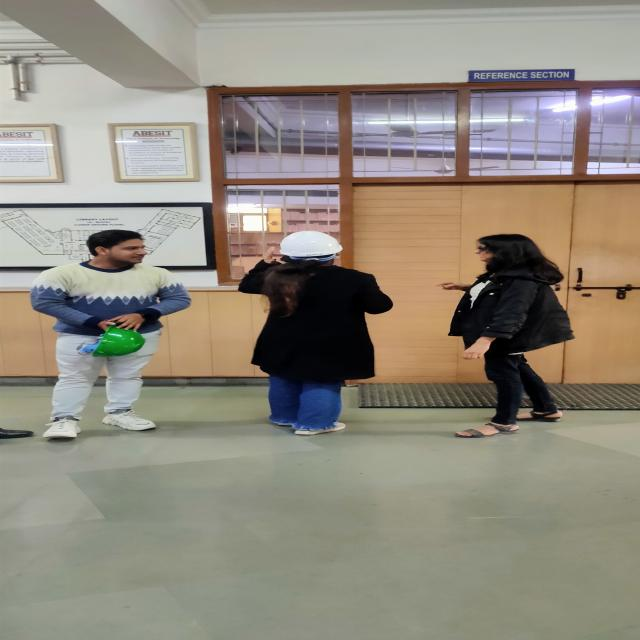no jacket: (240, 232, 394, 435)
unsafe: (36, 231, 193, 440), (442, 234, 576, 438)
